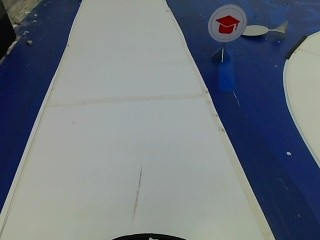school: (207, 3, 246, 44)
